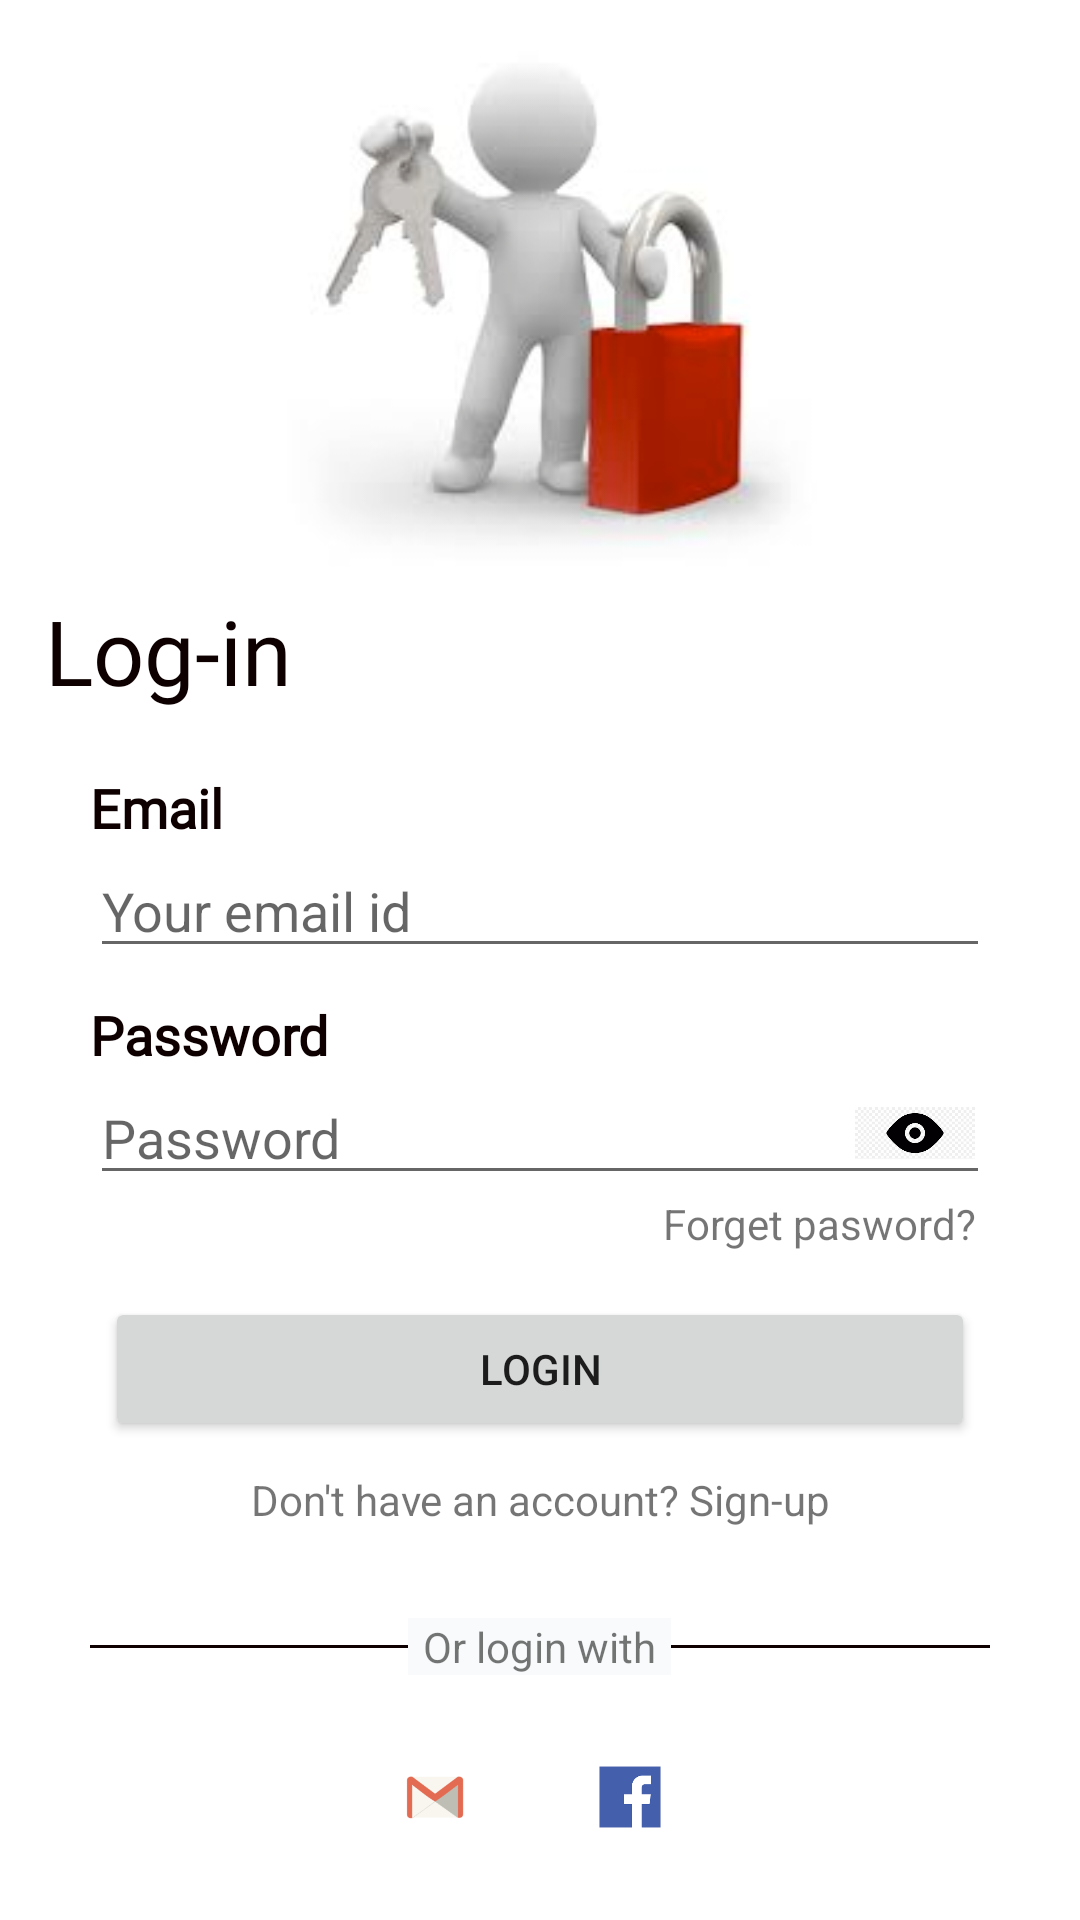

Icons on this 1080*1920 Android screen, each with its box as (x1, y1, x2, y2):
eye: (886, 1113, 944, 1153)
